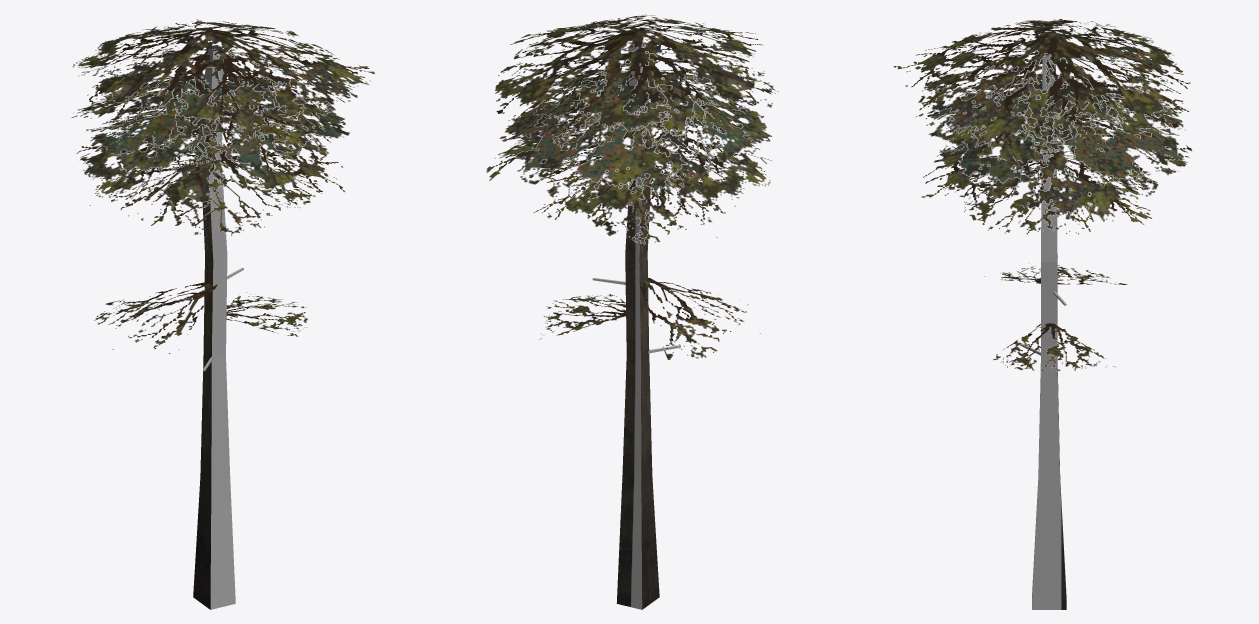
The model's file is bz_tree_02.fbx.
3 views of the same model, side by side, from view 1: azimuth 30°, elevation 25°; view 2: azimuth 150°, elevation 25°; view 3: azimuth 270°, elevation 25° (orthographic).
Visible parts, largest first — view 1: bz_tp_tree_02; view 2: bz_tp_tree_02; view 3: bz_tp_tree_02.
Part boxes in pixels (x1=…): bz_tp_tree_02: x1=71, y1=19, x2=374, y2=609; bz_tp_tree_02: x1=486, y1=14, x2=778, y2=609; bz_tp_tree_02: x1=893, y1=19, x2=1192, y2=609.
Size of the model in its own units: 3.75 by 6.18 by 3.73.
